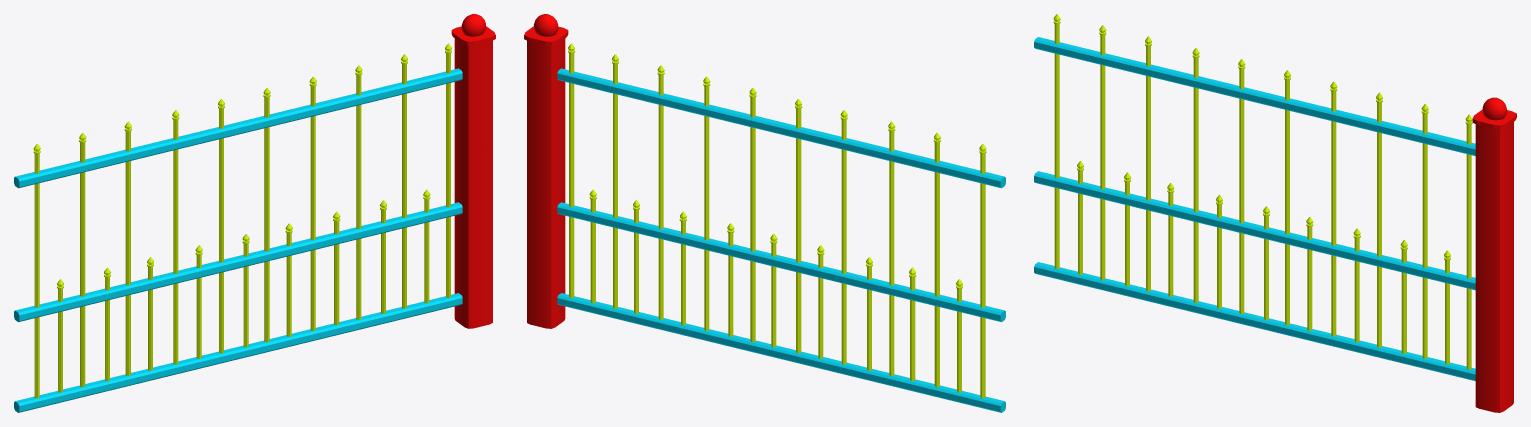
Rendered from Fence_NoEnd.fbx.
3 views of the same model, side by side, from view 1: azimuth 30°, elevation 25°; view 2: azimuth 150°, elevation 25°; view 3: azimuth 330°, elevation 25° (orthographic).
Parts seen in each view (by area): view 1: Box009, Box010, Box005; view 2: Box009, Box010, Box005; view 3: Box009, Box010, Box005.
Boxes of the visible parts, bbox=[...] form: Box009: bbox=[33, 43, 451, 398]; Box010: bbox=[14, 68, 462, 412]; Box005: bbox=[451, 14, 495, 328]; Box009: bbox=[568, 43, 986, 398]; Box010: bbox=[557, 68, 1005, 412]; Box005: bbox=[524, 14, 568, 328]; Box009: bbox=[1053, 14, 1472, 369]; Box010: bbox=[1034, 37, 1475, 380]; Box005: bbox=[1472, 97, 1516, 412].
Bounding box in the file's own units: 265 × 164 × 17.93.
